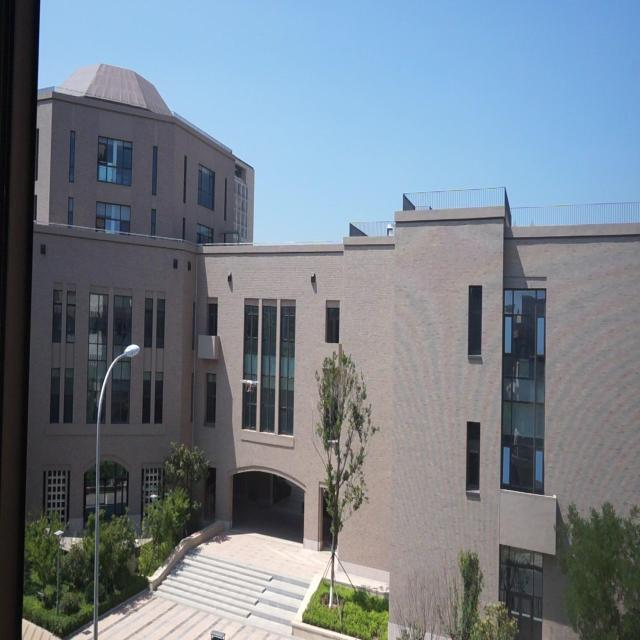drone: (240, 375, 260, 396)
